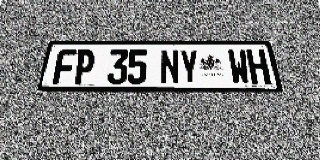3: (107, 50, 128, 84)
5: (127, 50, 147, 84)
F: (52, 50, 77, 84)
H: (246, 49, 271, 84)
N: (160, 50, 180, 84)
P: (72, 50, 96, 84)
W: (227, 49, 251, 84)
Y: (179, 50, 200, 84)
